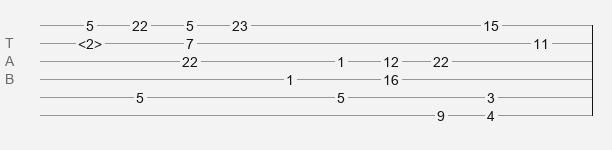1: (286, 72, 294, 82), (337, 54, 345, 64)
11: (533, 36, 549, 46)
12: (383, 54, 399, 64)
15: (483, 18, 499, 28)
16: (383, 72, 399, 82)
22: (132, 18, 148, 28), (182, 54, 198, 64), (433, 54, 449, 64)
23: (232, 18, 248, 28)
3: (487, 90, 495, 100)
4: (487, 108, 495, 118)
5: (86, 18, 94, 28), (136, 90, 144, 100), (186, 18, 194, 28), (337, 90, 345, 100)
7: (186, 36, 194, 46)
9: (437, 108, 445, 118)
harmonic: (78, 36, 102, 46)
